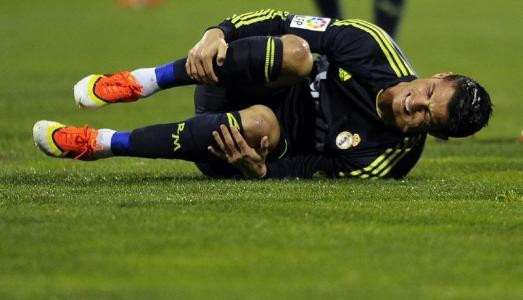falling: (23, 9, 491, 185)
